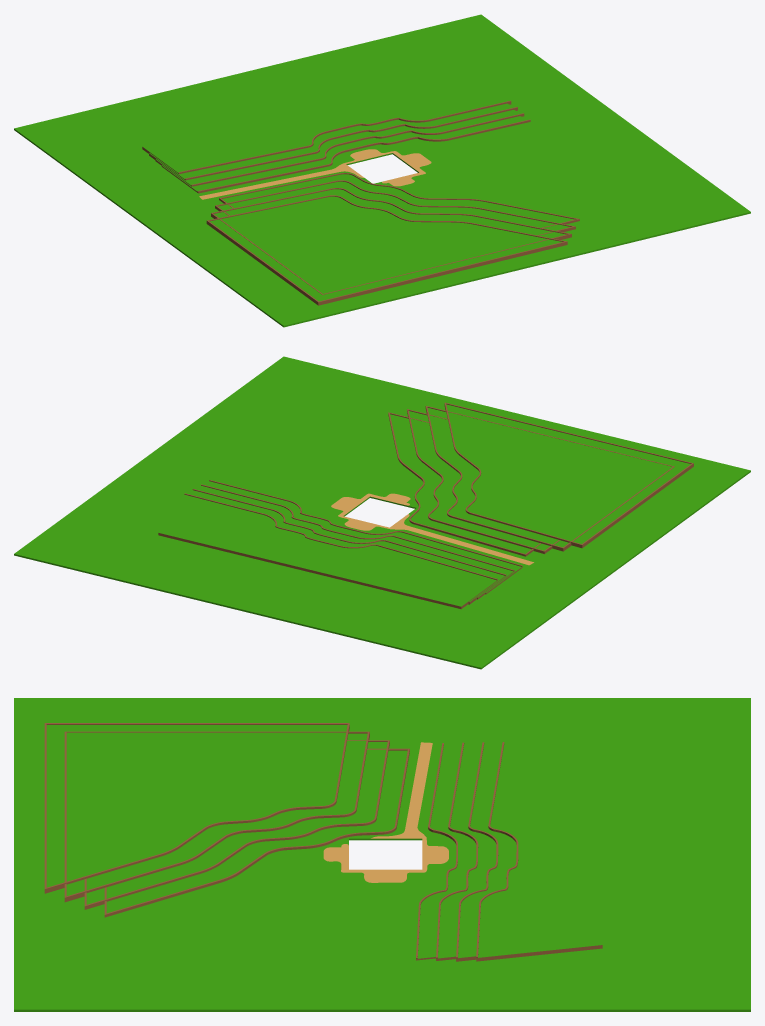
Rendered from surrounding_ground_test.glb.
The picture shows the model from 3 angles, top to bottom: view 1: azimuth 30°, elevation 25°; view 2: azimuth 150°, elevation 25°; view 3: azimuth 270°, elevation 25°; orthographic projection. The views are drawn at different scales.
Parts seen in each view (by area): view 1: Plane.009; view 2: Plane.009; view 3: Plane.009.
Boxes of the visible parts, bbox=[...] form: Plane.009: bbox=[14, 14, 750, 327]; Plane.009: bbox=[14, 356, 750, 669]; Plane.009: bbox=[14, 698, 750, 1011].
Bounding box in the file's own units: 70.22 × 0.8279 × 70.22.
